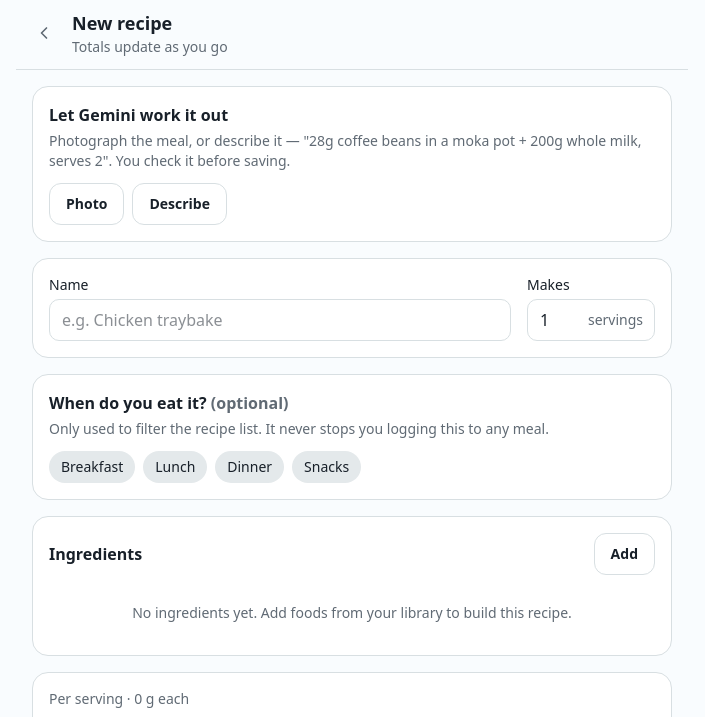
it: RecipeEditPage — ingredient picker › keeps what was typed into the recipe while picking
In the field labelled "Name": (280, 320) [49, 299, 511, 341], type "Overnight oats"
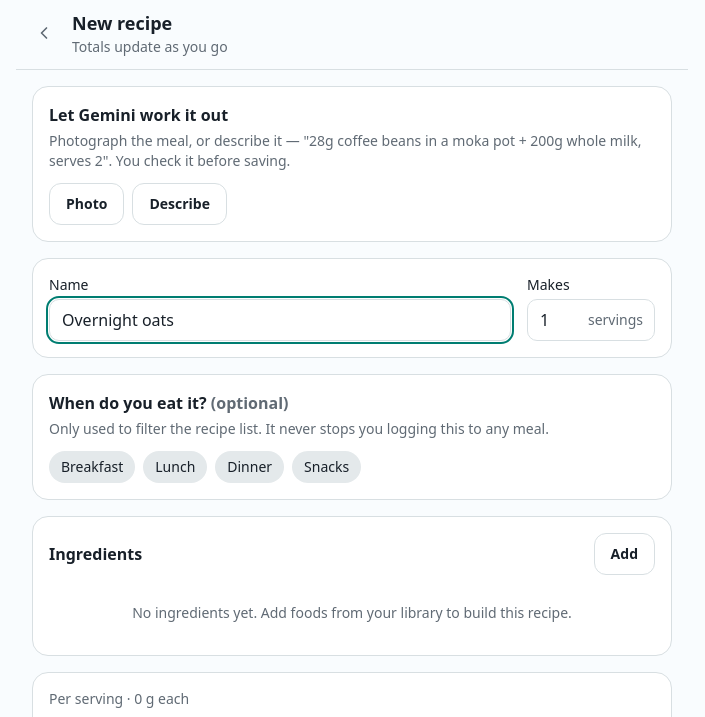
Click the button "Add": (624, 554) [594, 533, 655, 575]
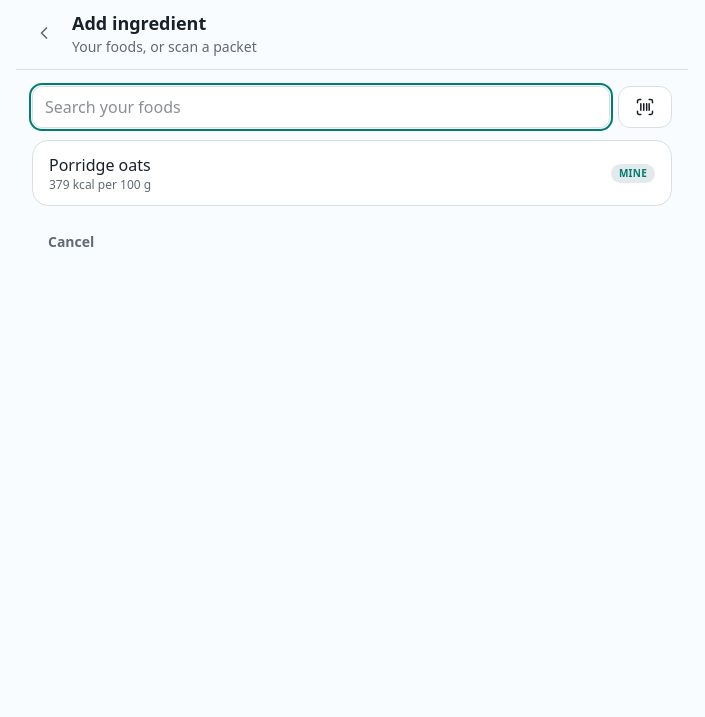
Click the button named "Back": (44, 33) [28, 17, 60, 49]
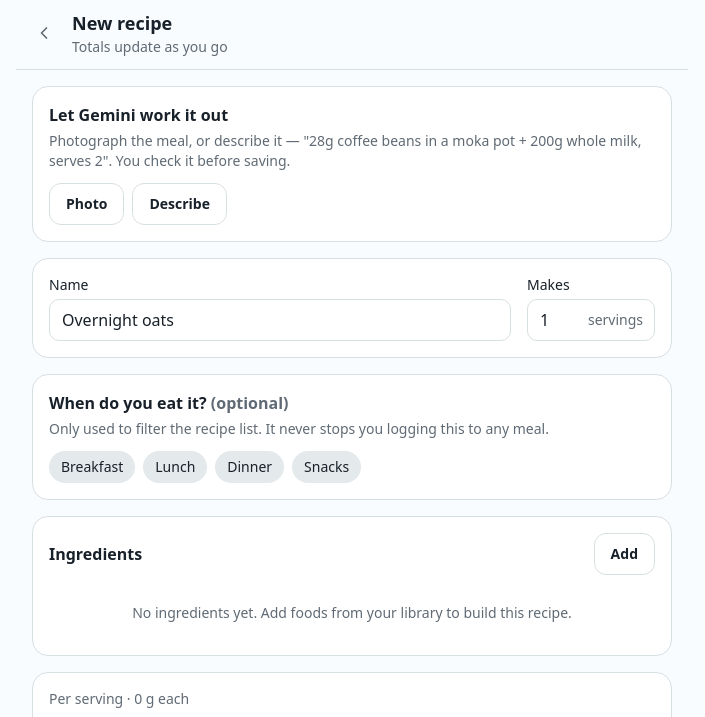
Result: the field labelled "Name" holds "Overnight oats" at [49, 299, 511, 341]
